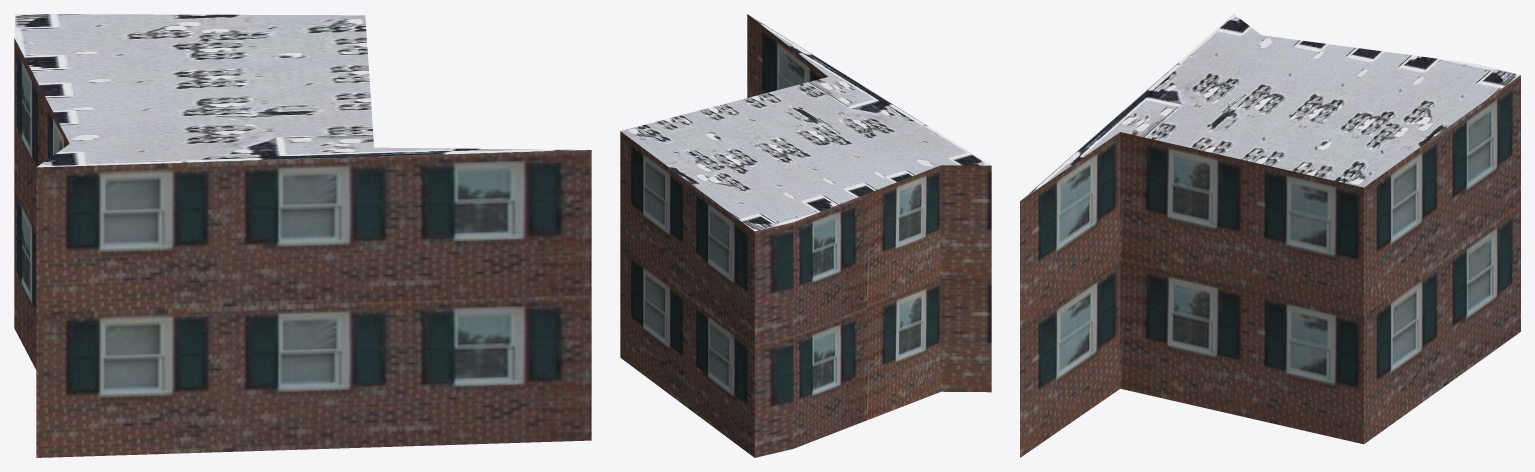
File: ResTex__2618.fbx
3 views of the same model, side by side, from view 1: azimuth 30°, elevation 25°; view 2: azimuth 150°, elevation 25°; view 3: azimuth 270°, elevation 25° (orthographic). The views are drawn at different scales.
Visible parts, largest first — view 1: CityEngineMaterial_14_m, CityEngineMaterial_8_m; view 2: CityEngineMaterial_14_m, CityEngineMaterial_8_m; view 3: CityEngineMaterial_14_m, CityEngineMaterial_8_m.
Boxes of the visible parts, x1=… form: CityEngineMaterial_14_m: x1=14, y1=38, x2=591, y2=457; CityEngineMaterial_8_m: x1=14, y1=14, x2=586, y2=167; CityEngineMaterial_14_m: x1=620, y1=14, x2=991, y2=457; CityEngineMaterial_8_m: x1=620, y1=15, x2=990, y2=231; CityEngineMaterial_14_m: x1=1020, y1=75, x2=1520, y2=457; CityEngineMaterial_8_m: x1=1022, y1=14, x2=1520, y2=199.
Bounding box in the file's own units: 9.38 × 6 × 10.61.
Materials: 2 (2 with a texture image).
